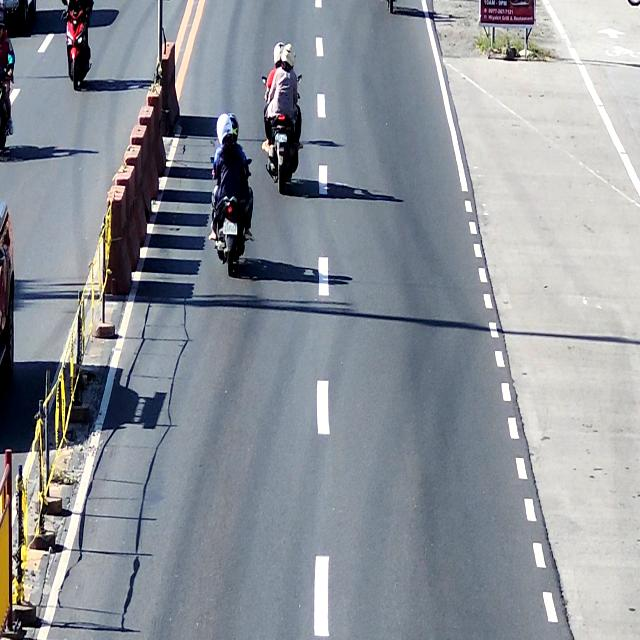License-Plate: (222, 219, 240, 240), (273, 130, 292, 148)
Motorcycle: (208, 152, 256, 281), (263, 86, 303, 198), (64, 14, 92, 92)
